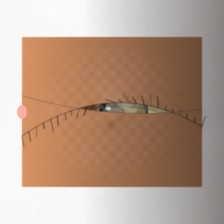corneal_ulcer: (95, 83, 150, 126)
